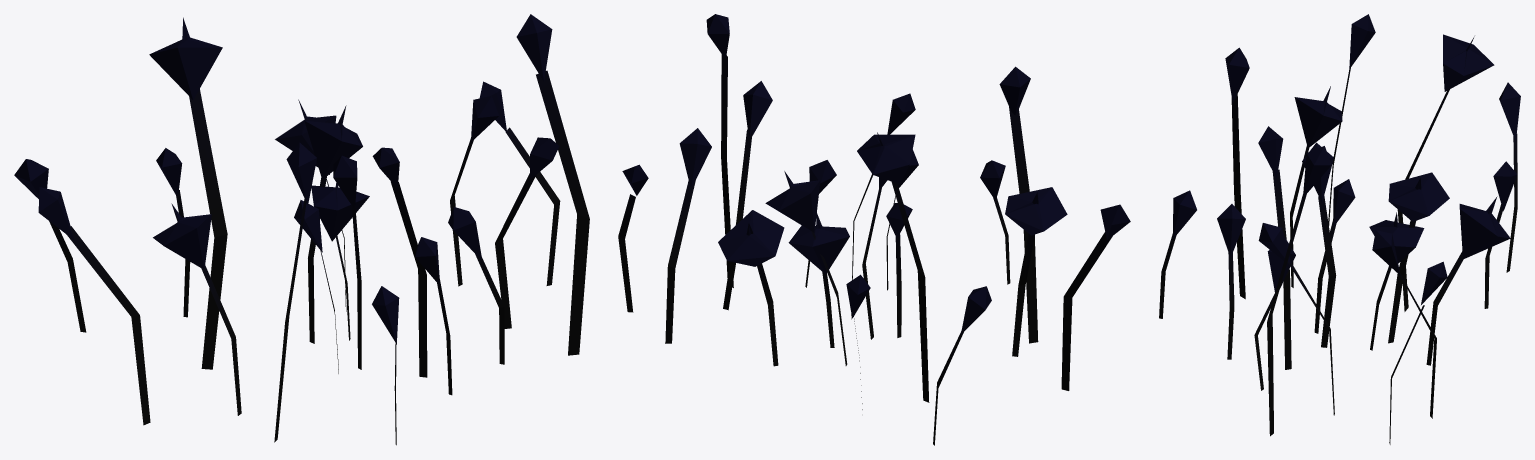
The model's file is PatchTulip05.fbx.
3 views of the same model, side by side, from view 1: azimuth 30°, elevation 25°; view 2: azimuth 150°, elevation 25°; view 3: azimuth 270°, elevation 25° (orthographic). The views are drawn at different scales.
Parts seen in each view (by area): view 1: PatchTulip05; view 2: PatchTulip05; view 3: PatchTulip05.
Part boxes in pixels (left/top/right/bottom): PatchTulip05: left=14, top=14, right=589, bottom=445; PatchTulip05: left=618, top=14, right=1130, bottom=445; PatchTulip05: left=1159, top=14, right=1520, bottom=444.
Size of the model in its own units: 98.6 by 56.22 by 64.93.
